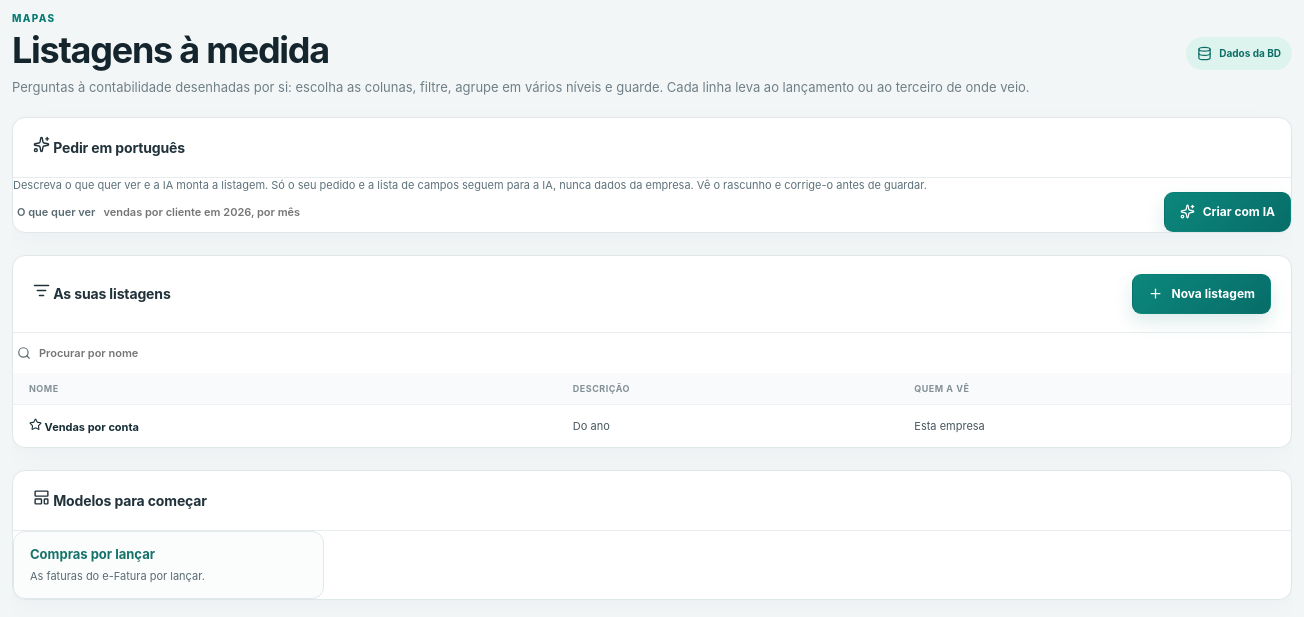
Test: listagens à medida › lista as guardadas com o alcance em português
Expected: the text "Esta empresa" is shown, [898,404,1291,447]
Type "inexistente" into the field named "Procurar listagens" at coordinates (126, 353), box [37,345,215,361]
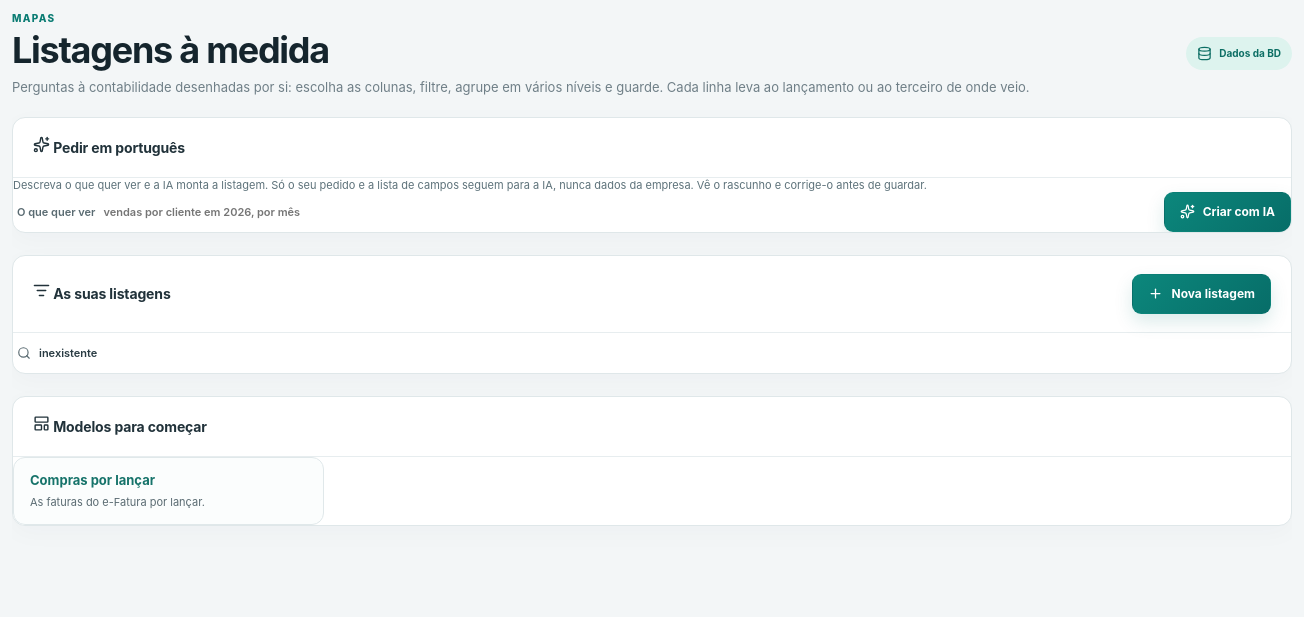
Now the link "Vendas por conta" is gone
